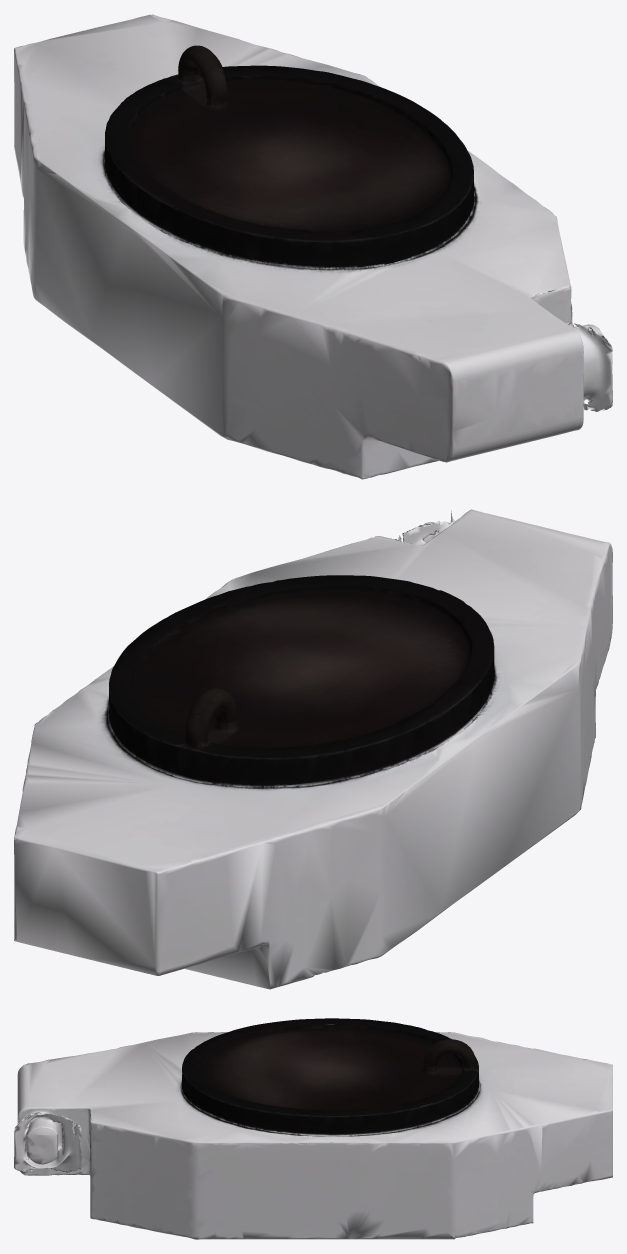
File: vet_equip_xray_viewer.glb
The picture shows the model from 3 angles, top to bottom: view 1: azimuth 30°, elevation 25°; view 2: azimuth 150°, elevation 25°; view 3: azimuth 270°, elevation 25°; orthographic projection. The views are drawn at different scales.
Parts seen in each view (by area): view 1: model; view 2: model; view 3: model.
Boxes of the visible parts, x1,y1,x2,y2 form: model: (14,14,612,479); model: (14,509,612,989); model: (14,1018,612,1239).
Size of the model in its own units: 0.8288 by 0.5046 by 1.9.
Materials: 1 (1 with a texture image).
